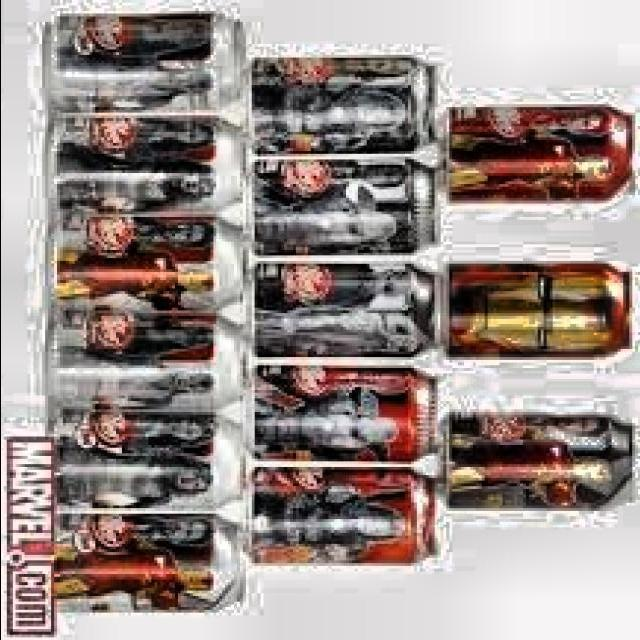Aluminum Can: (436, 255, 638, 364), (47, 510, 246, 620), (441, 100, 640, 209), (40, 10, 248, 114), (436, 409, 635, 516), (45, 310, 247, 414), (246, 51, 444, 157), (39, 115, 245, 216), (242, 466, 442, 570), (248, 259, 444, 365), (44, 215, 250, 314), (248, 362, 444, 465), (247, 158, 442, 258), (51, 414, 246, 514)
